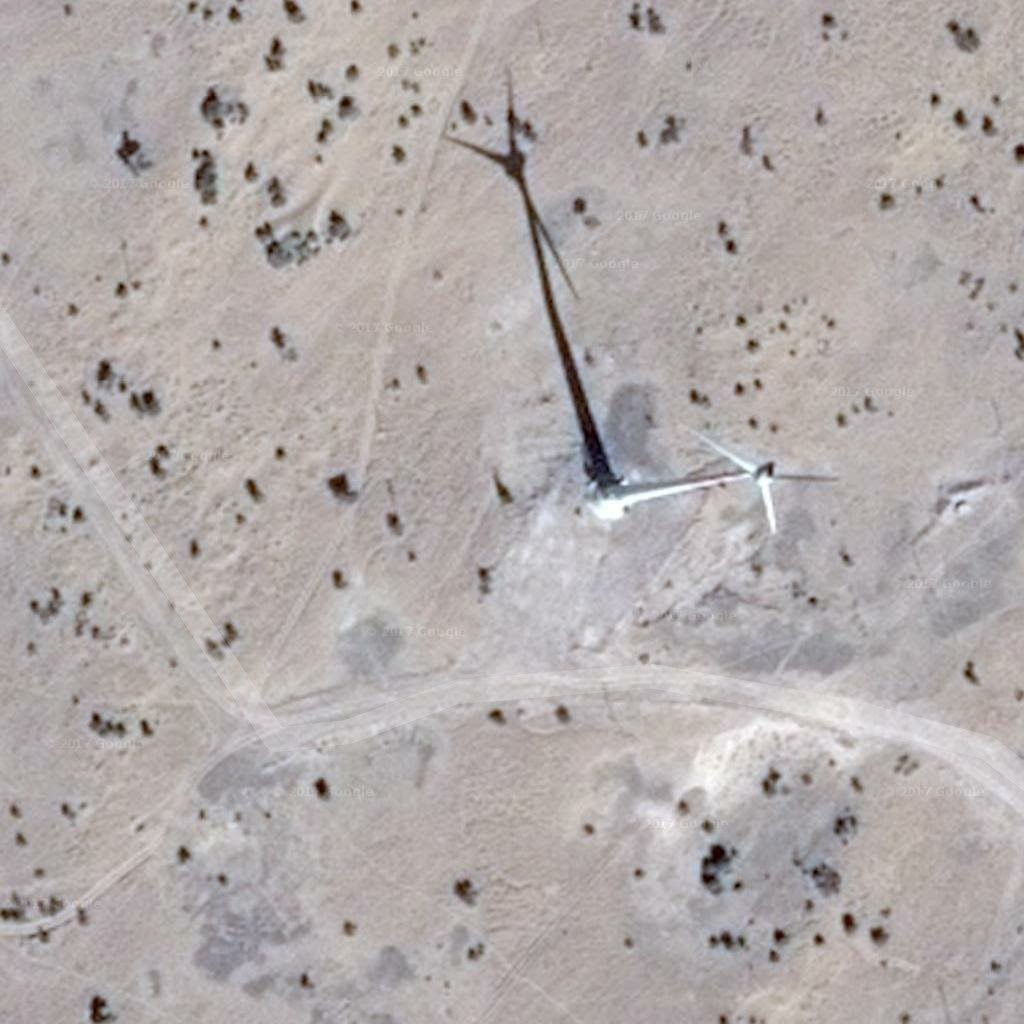Windmill: (436, 74, 634, 489)
